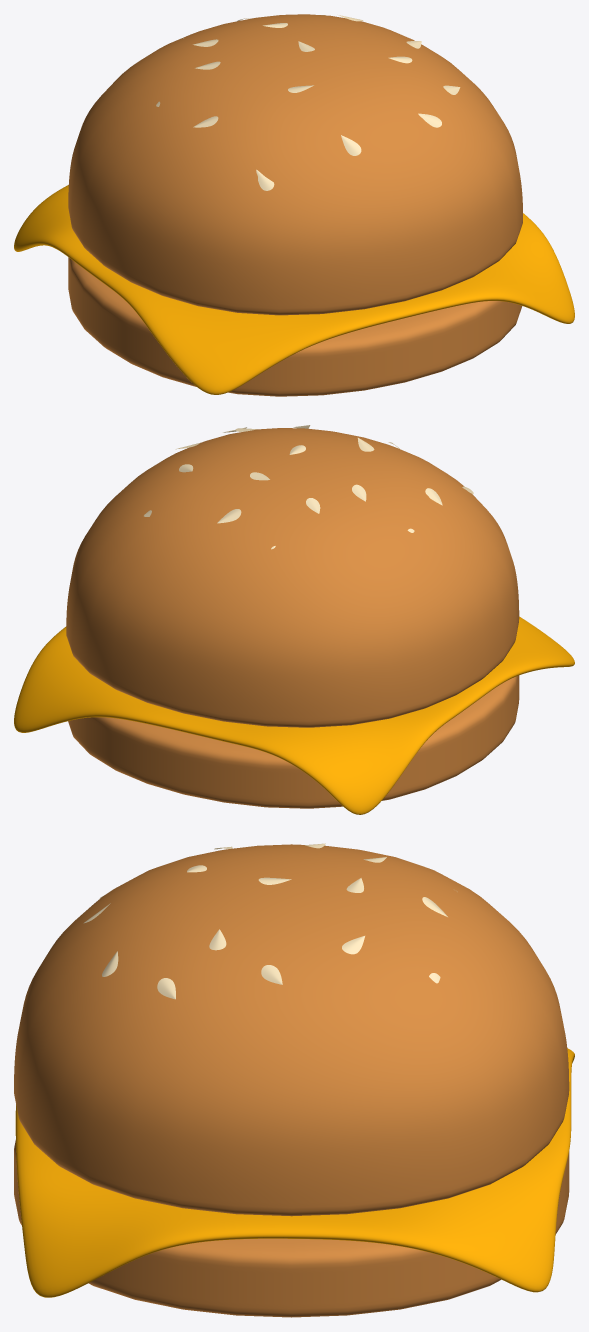
The model's file is burger cheese.glb.
3 views of the same model, one above another, from view 1: azimuth 30°, elevation 25°; view 2: azimuth 150°, elevation 25°; view 3: azimuth 270°, elevation 25° (orthographic). The views are drawn at different scales.
Visible parts, largest first — view 1: burger cheese.002; view 2: burger cheese.002; view 3: burger cheese.002.
Part boxes in pixels (x1,y1,x2,y2): burger cheese.002: (14,14,574,396); burger cheese.002: (14,425,574,814); burger cheese.002: (14,843,574,1317).
Bounding box in the file's own units: 1.2 × 0.7844 × 1.19.
